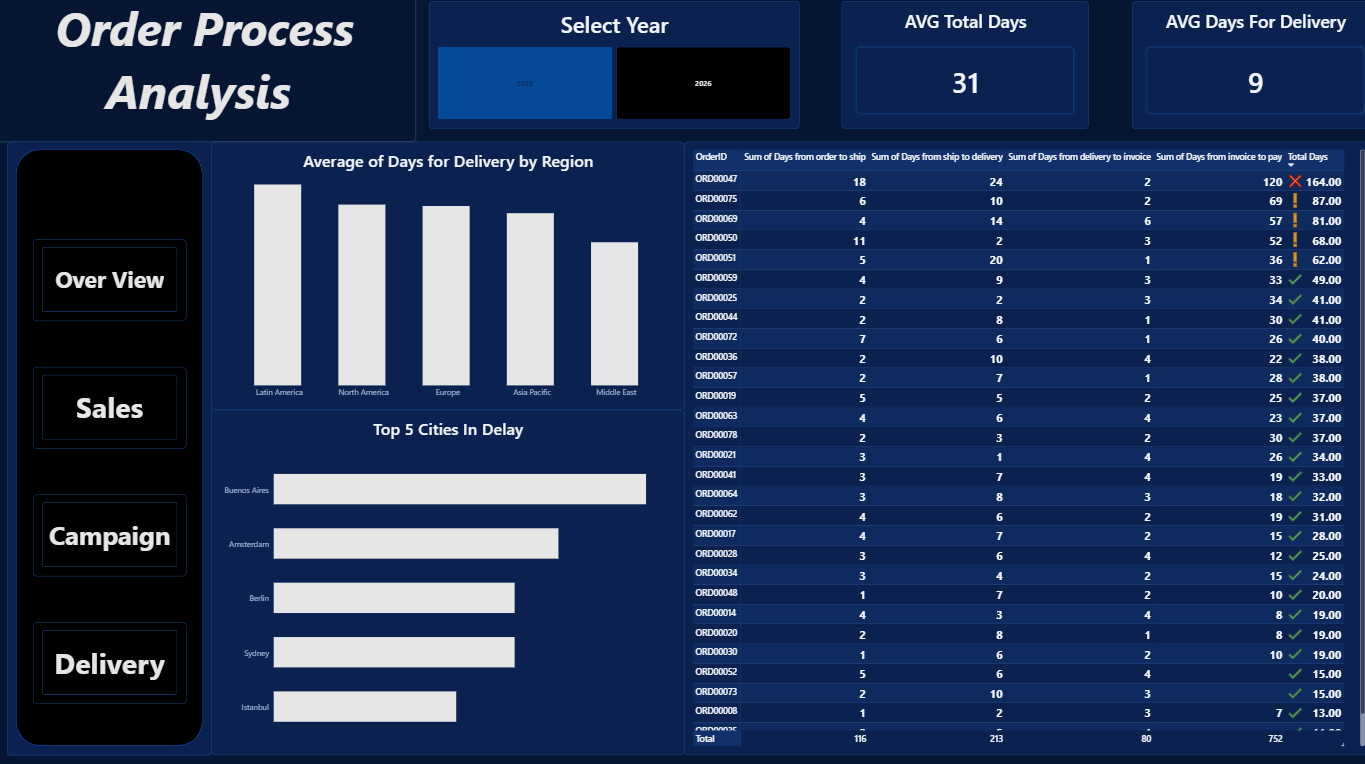

This screenshot's page, from the dashboard's own definition file:
{"tool":"powerbi","page":{"name":"Delivery","canvas":[2600,1500],"ordinal":3},"visuals":[{"type":"cardVisual","title":"AVG Days For Delivery","fields":{"Data":["Avg(fact_order_process.Days for Delivery)"]},"box":[2136,24,464,240],"z":0},{"type":"group","id":"g1","title":"Group 1","box":[24,288,384,1152],"z":0,"group":"g2"},{"type":"shape","box":[24,288,384,1152],"z":0,"group":"g3"},{"type":"clusteredColumnChart","title":"Average of Days for Delivery by Region","fields":{"Category":["dim_customer.region_name"],"Y":["Avg(fact_order_process.Days for Delivery)"]},"box":[408,288,888,504],"z":1000},{"type":"actionButton","box":[72,472.5,288,153.6],"z":1000,"group":"g2"},{"type":"actionButton","box":[72,711.5,288,153.6],"z":2000,"group":"g2"},{"type":"clusteredBarChart","title":"Top 5 Cities In Delay ","fields":{"Category":["dim_customer.city_name"],"Y":["Sum(fact_order_process.Days for Delivery)"]},"box":[408,792,888,648],"z":2000},{"type":"pivotTable","fields":{"Rows":["fact_order_process.OrderID"],"Values":["Sum(fact_order_process.Days from order to ship)","Sum(fact_order_process.Days from ship to delivery)","Sum(fact_order_process.Days from  delivery to invoice)","Sum(fact_order_process.Days from invoice to pay)","select1","select"]},"box":[1296,288,1296,1152],"z":3000},{"type":"actionButton","box":[72,950.4,288,153.6],"z":3000,"group":"g2"},{"type":"textbox","box":[0,0,792,288],"z":4000},{"type":"actionButton","box":[72,1189.3,288,153.6],"z":4000,"group":"g2"},{"type":"advancedSlicerVisual","title":"Select Year","fields":{"Values":["fact_order_process.DeliveryDate.Variation.Date Hierarchy.Year"]},"box":[816,24,696,240],"z":5000},{"type":"group","id":"g2","title":"Group 3","box":[24,288,360,1152],"z":6000},{"type":"cardVisual","title":"AVG Total Days ","fields":{"Data":["Avg(fact_order_process.Total Days)"]},"box":[1592,24,464,240],"z":7000},{"type":"group","id":"g3","title":"Group 2","box":[24,288,384,1152],"z":9007,"group":"g1"}]}

Visuals, with their boxes on the page's 2600x1500 design canvas (x1, y1, x2, y2). These are canvas units, not pixel positions in the 1365x764 screenshot, which may show the page scaled, cropped or inside an application window:
"AVG Days For Delivery" cardVisual: x1=2136 y1=24 x2=2600 y2=264
"Group 1" group: x1=24 y1=288 x2=408 y2=1440
shape: x1=24 y1=288 x2=408 y2=1440
"Average of Days for Delivery by Region" clusteredColumnChart: x1=408 y1=288 x2=1296 y2=792
actionButton: x1=72 y1=472 x2=360 y2=626
actionButton: x1=72 y1=712 x2=360 y2=865
"Top 5 Cities In Delay " clusteredBarChart: x1=408 y1=792 x2=1296 y2=1440
pivotTable - fact_order_process.OrderID x Sum(fact_order_process.Days from order to ship): x1=1296 y1=288 x2=2592 y2=1440
actionButton: x1=72 y1=950 x2=360 y2=1104
textbox: x1=0 y1=0 x2=792 y2=288
actionButton: x1=72 y1=1189 x2=360 y2=1343
"Select Year" advancedSlicerVisual: x1=816 y1=24 x2=1512 y2=264
"Group 3" group: x1=24 y1=288 x2=384 y2=1440
"AVG Total Days " cardVisual: x1=1592 y1=24 x2=2056 y2=264
"Group 2" group: x1=24 y1=288 x2=408 y2=1440
